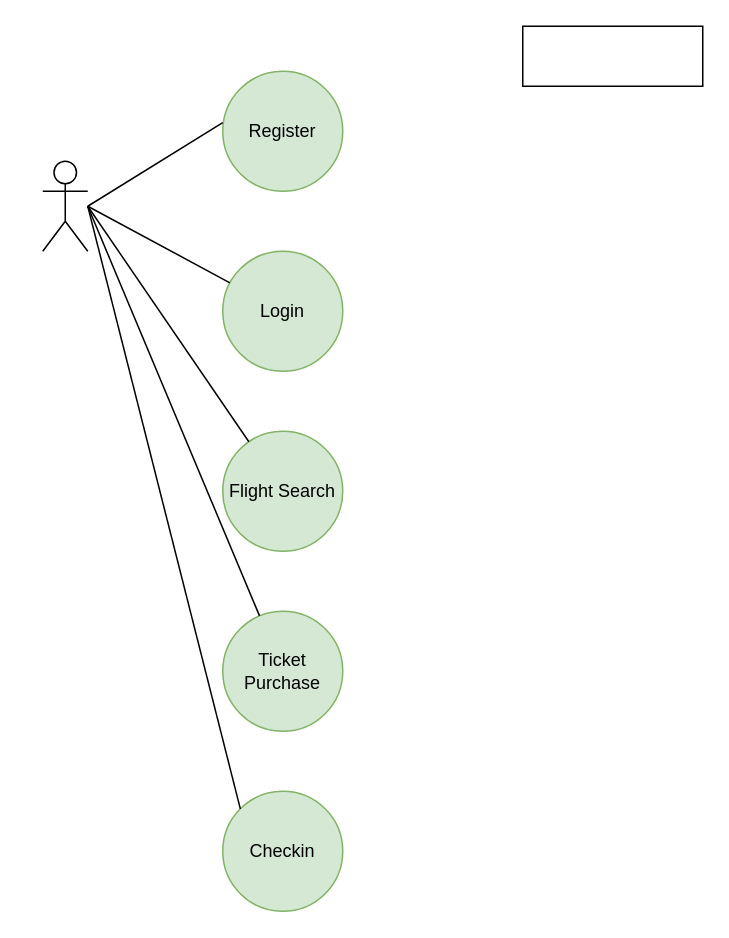
The diagram is 729 pixels wide and 938 high, and some of its shapes have lost their labels. Here are the shapes that lost their labels. From the top down, the centre of each, then its label:
At [612,55]: "Airport Interactions".
At [64,205]: "Customer".
